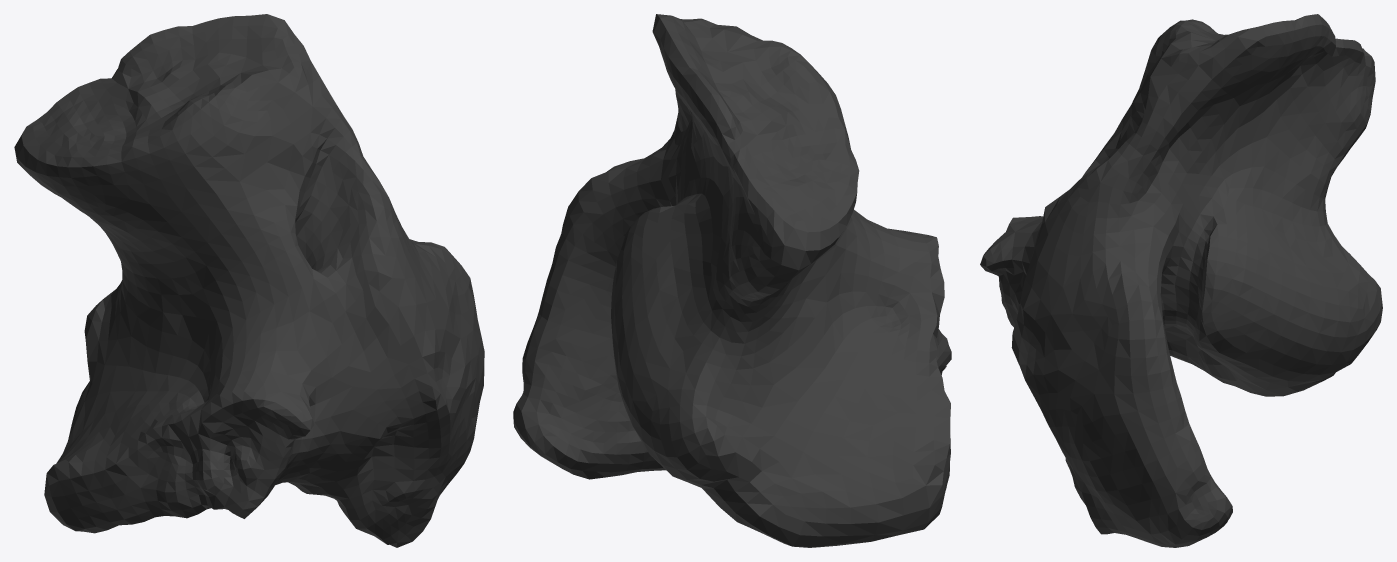
Rendered from Exoccipital_L.glb.
The picture shows the model from 3 angles, left to right: view 1: azimuth 30°, elevation 25°; view 2: azimuth 150°, elevation 25°; view 3: azimuth 270°, elevation 25°; orthographic projection. The views are drawn at different scales.
Visible parts, largest first — view 1: Exoccipital_L; view 2: Exoccipital_L; view 3: Exoccipital_L.
Part boxes in pixels (x1,y1,x2,y2): Exoccipital_L: (14,14,484,547); Exoccipital_L: (513,14,951,547); Exoccipital_L: (980,14,1382,547).
Bounding box in the file's own units: 150 × 174 × 132.
Materials: 1 (1 with a texture image).
